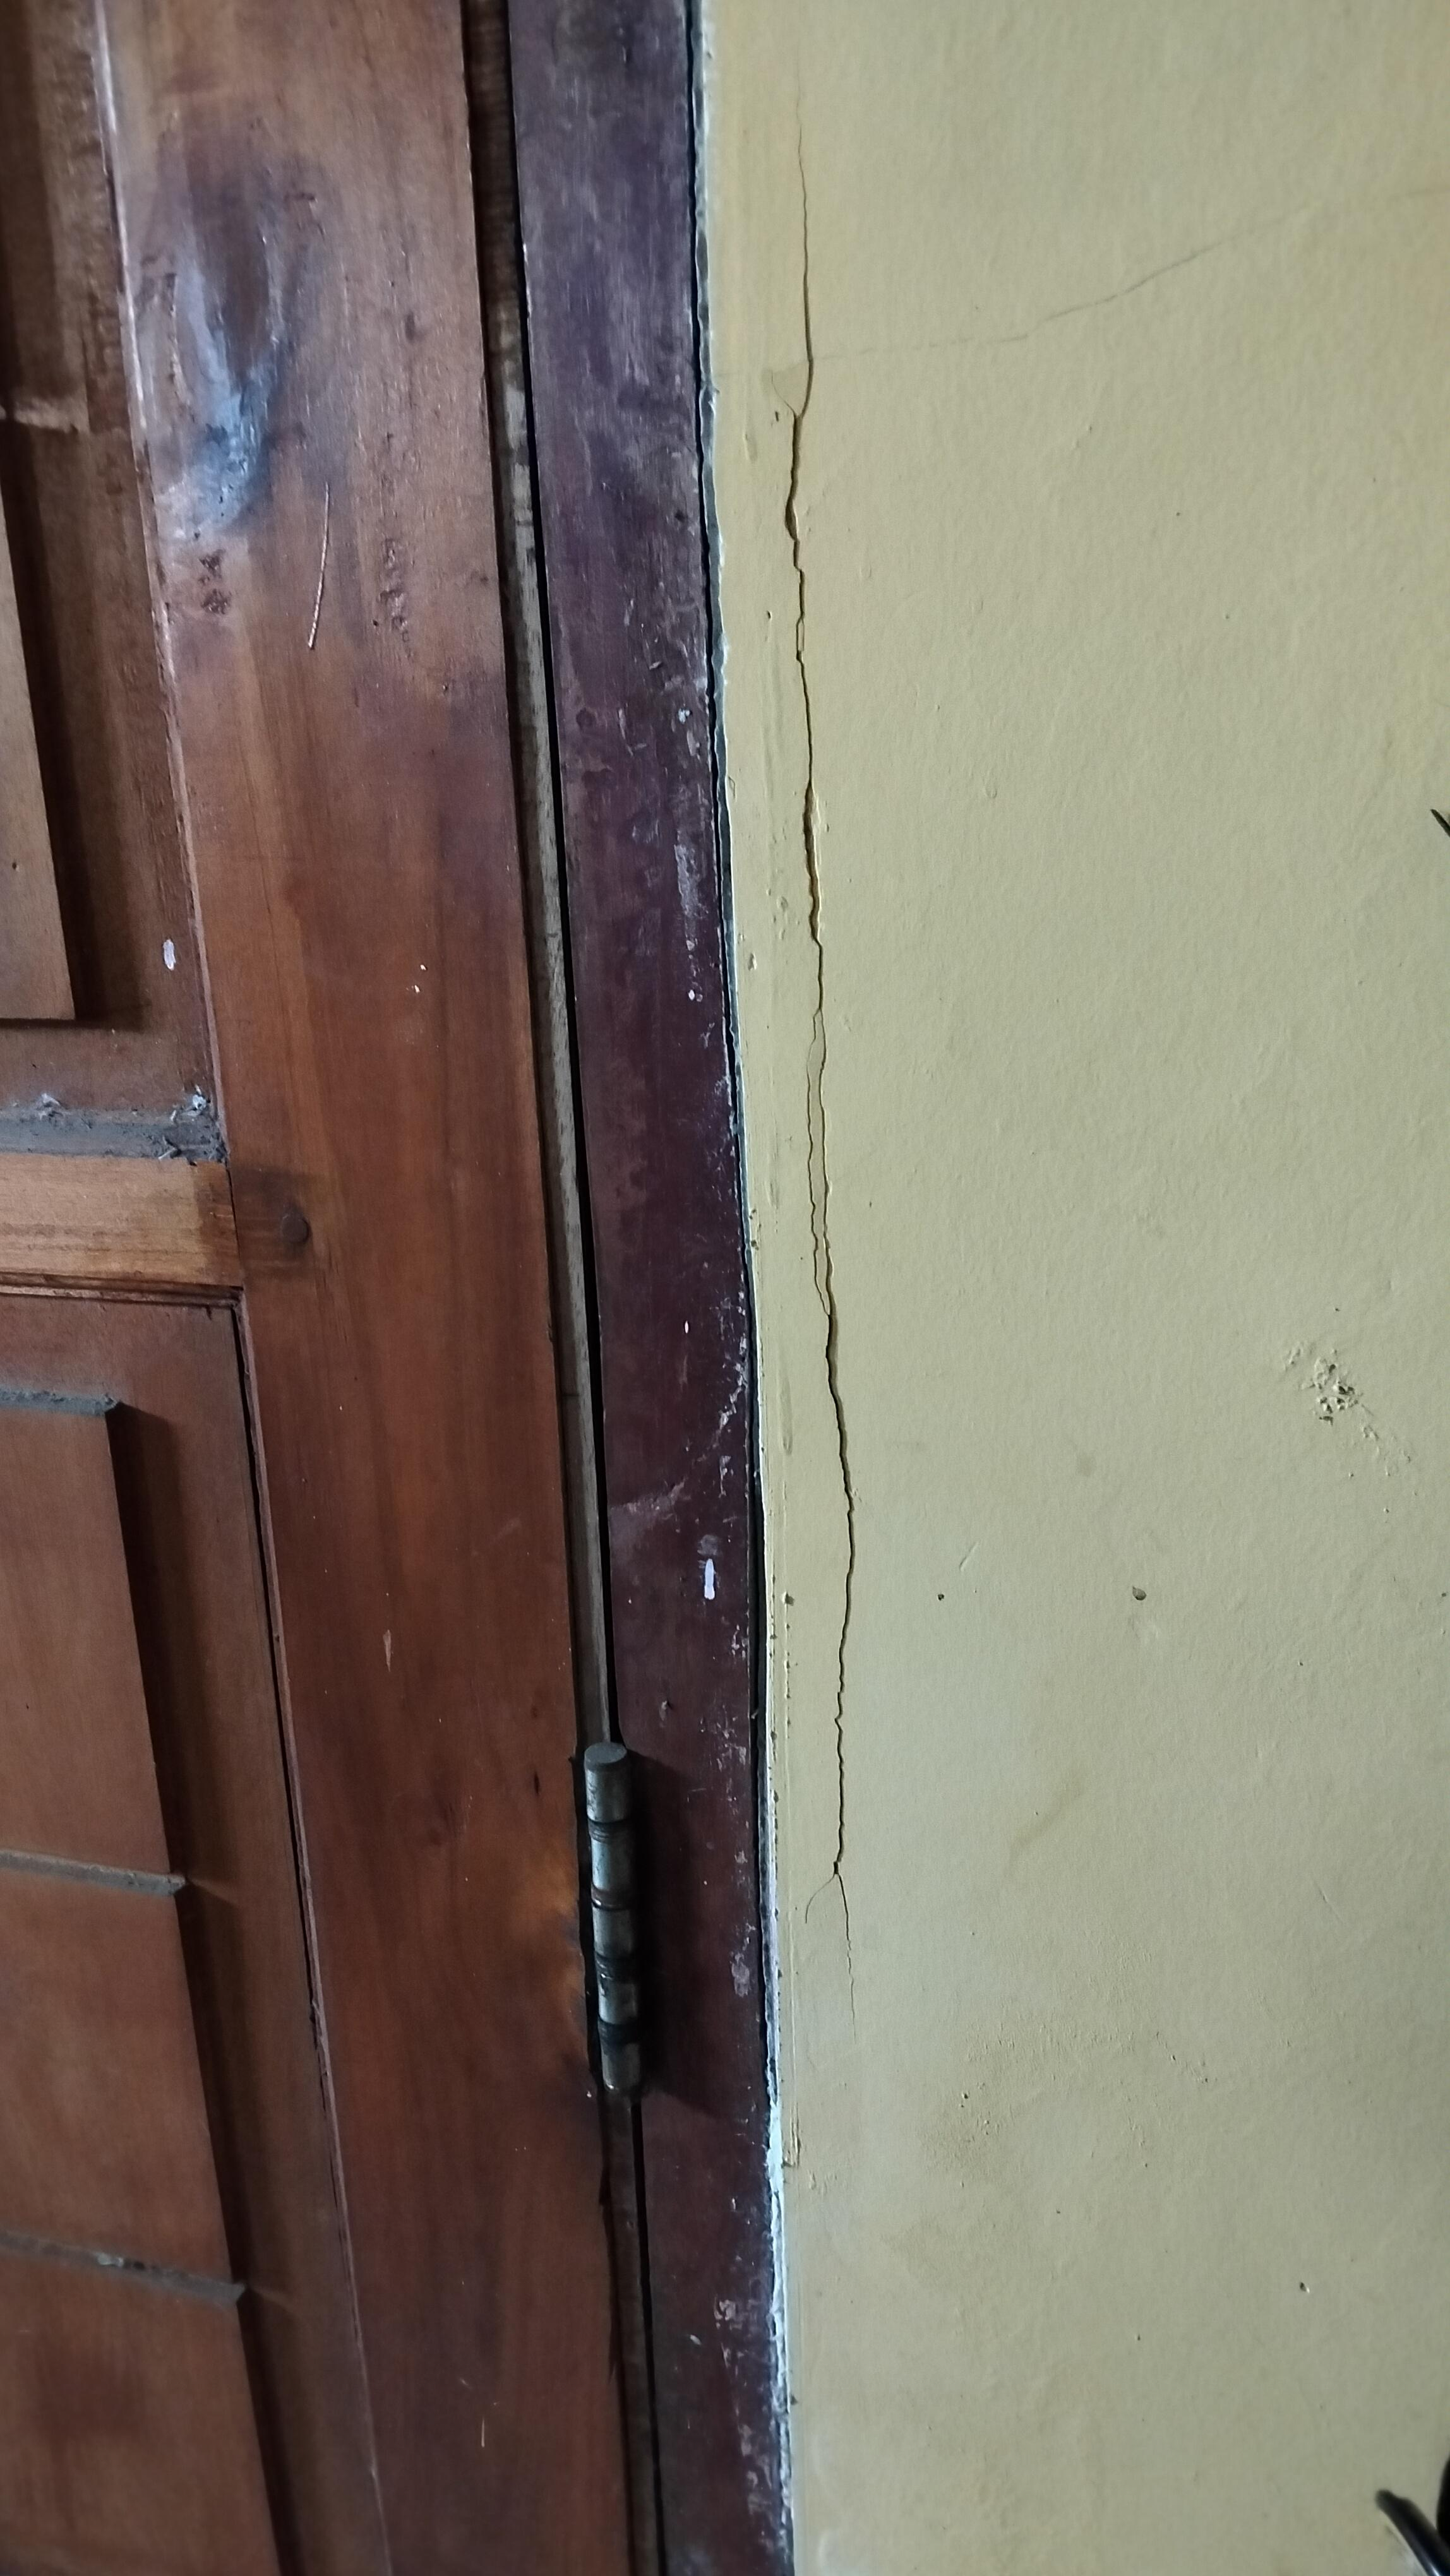Crack: (770, 44, 898, 2052)
